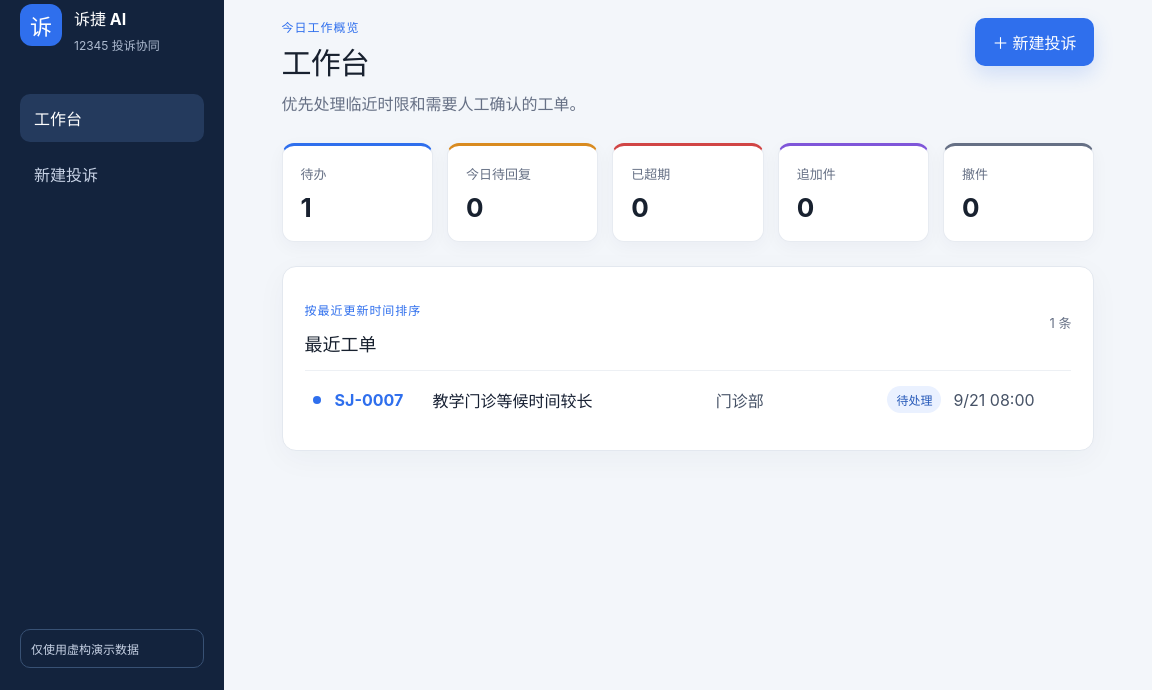
Test case: 诉捷端到端人工审核流程 › links an additional submission and requires a reason before withdrawal
Click the button "SJ-0007 教学门诊等候时间较长 门诊部 待处理 9/21 08:00" at (383, 400), box [305,370,1071,428]
(page scrolled)
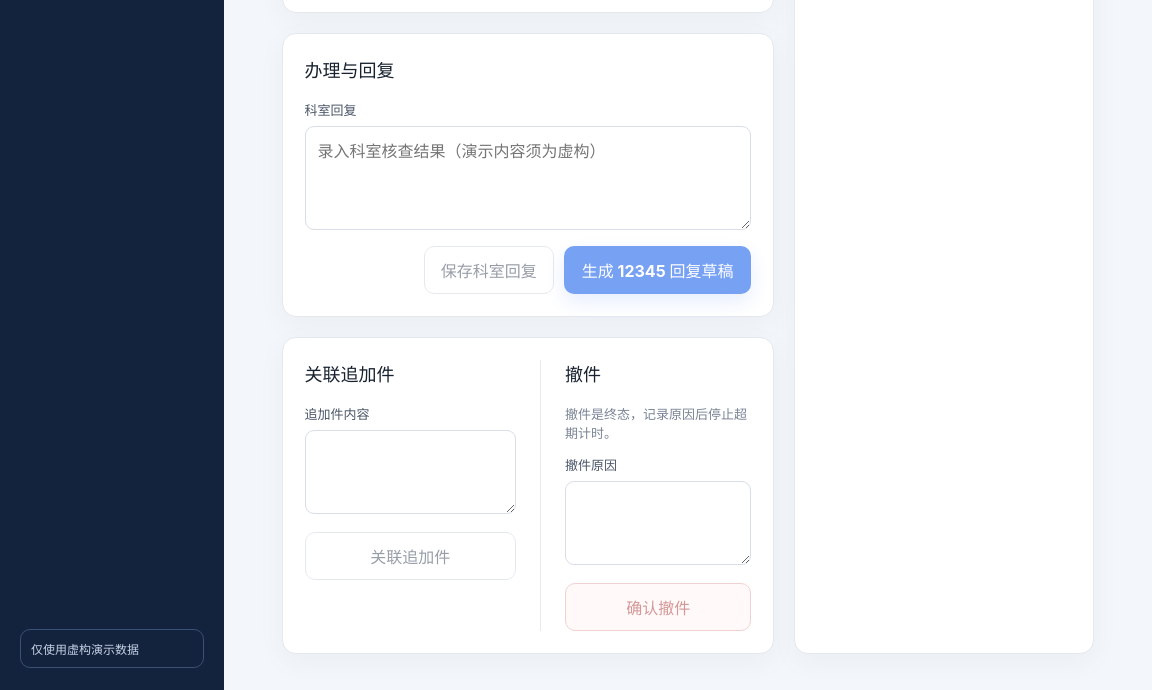
Type "【虚构追加件】补充分诊台位置。" into the text box labelled "追加件内容" at (410, 472), box [305,430,516,514]
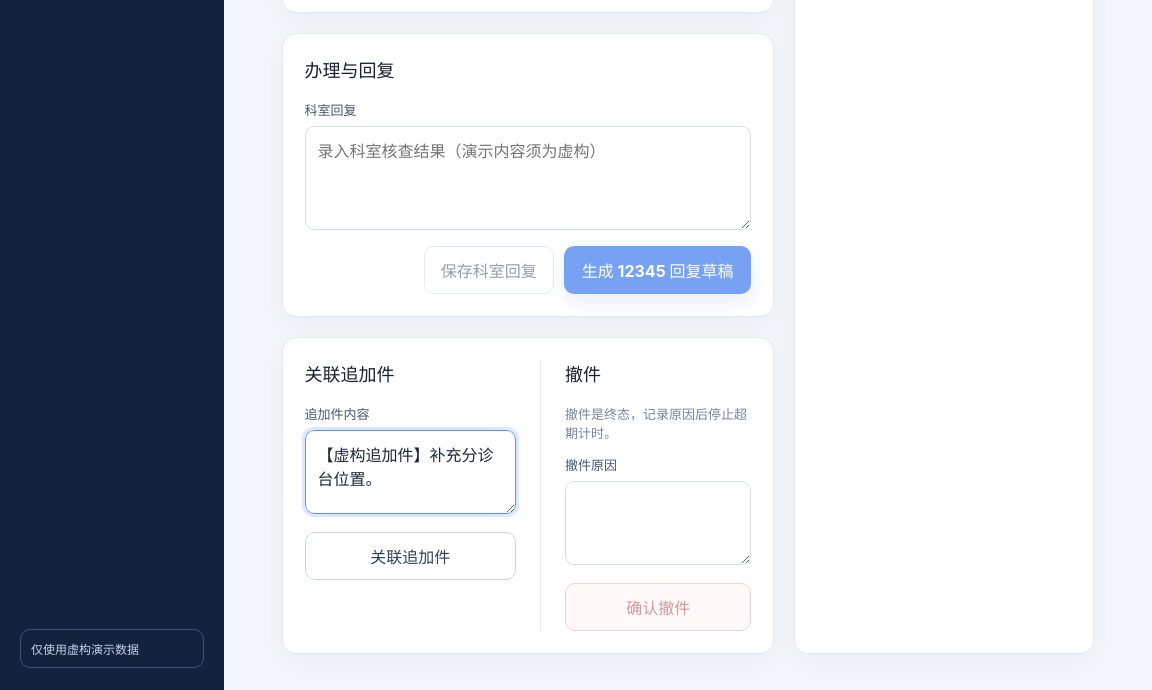
Click the button "关联追加件" at (410, 556), box [305,532,516,580]
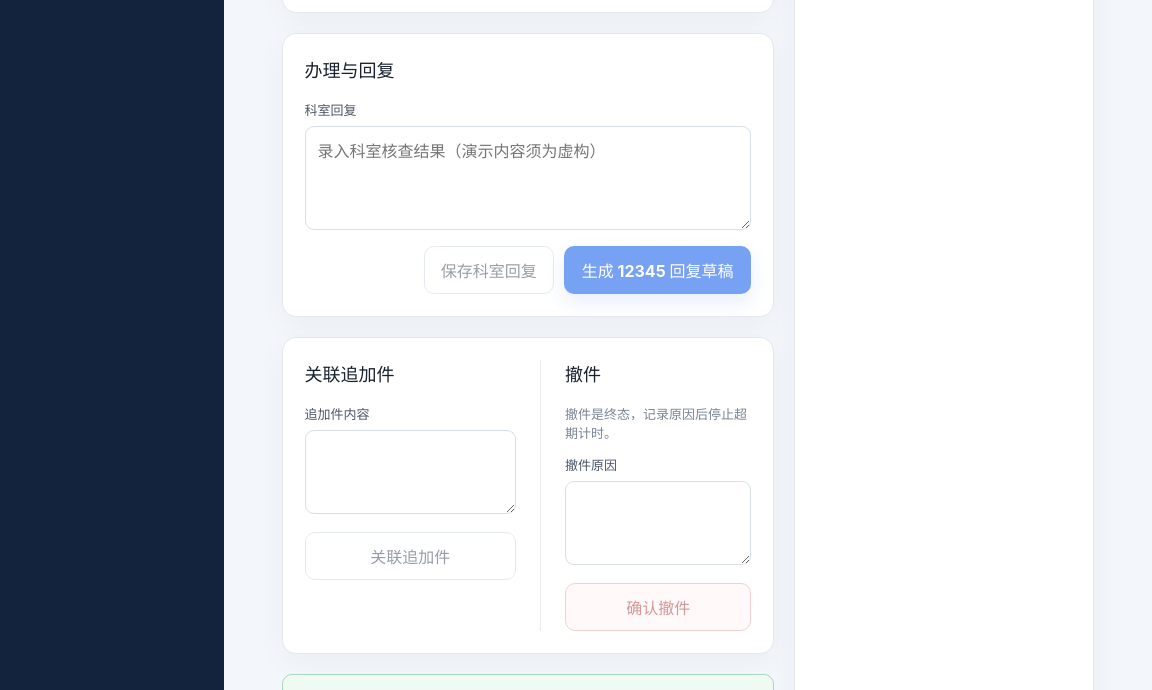
Expected: the button "确认撤件" is disabled, [565,583,751,631]
Type "【虚构原因】来电人表示问题已解决。" into the text box labelled "撤件原因" at (658, 523), box [565,481,751,565]
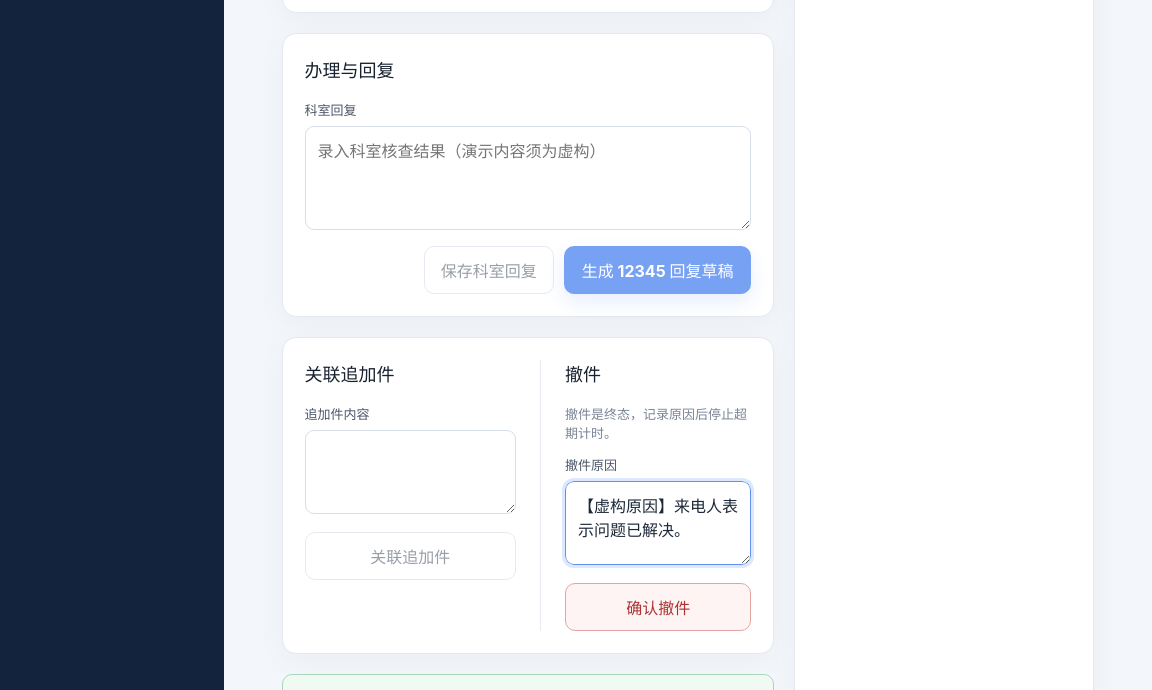
Click the button "确认撤件" at (658, 607), box [565,583,751,631]
(page scrolled)
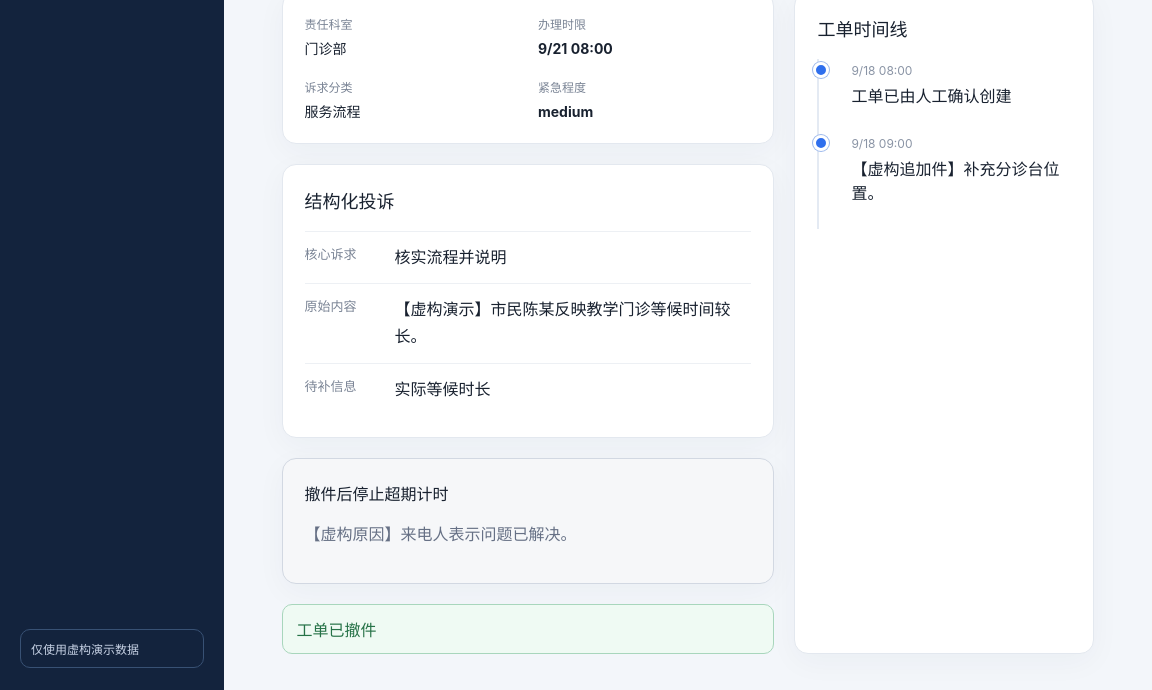
Expected: the text "撤件后停止超期计时" is shown, [305,484,449,504]
